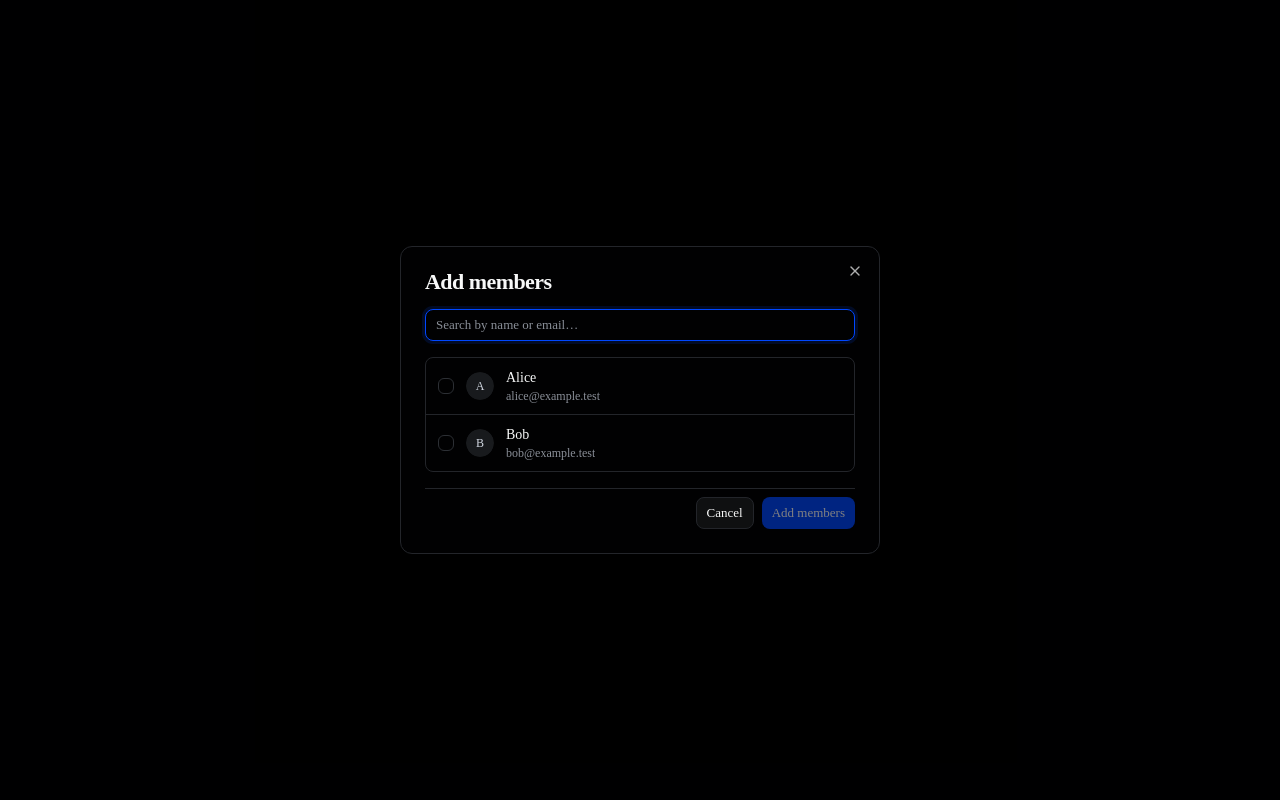
AddGroupMembersDialog › deselecting removes the chip
This screenshot has width=1280, height=800.
Click the text "Alice": (521, 378) [506, 370, 536, 385]
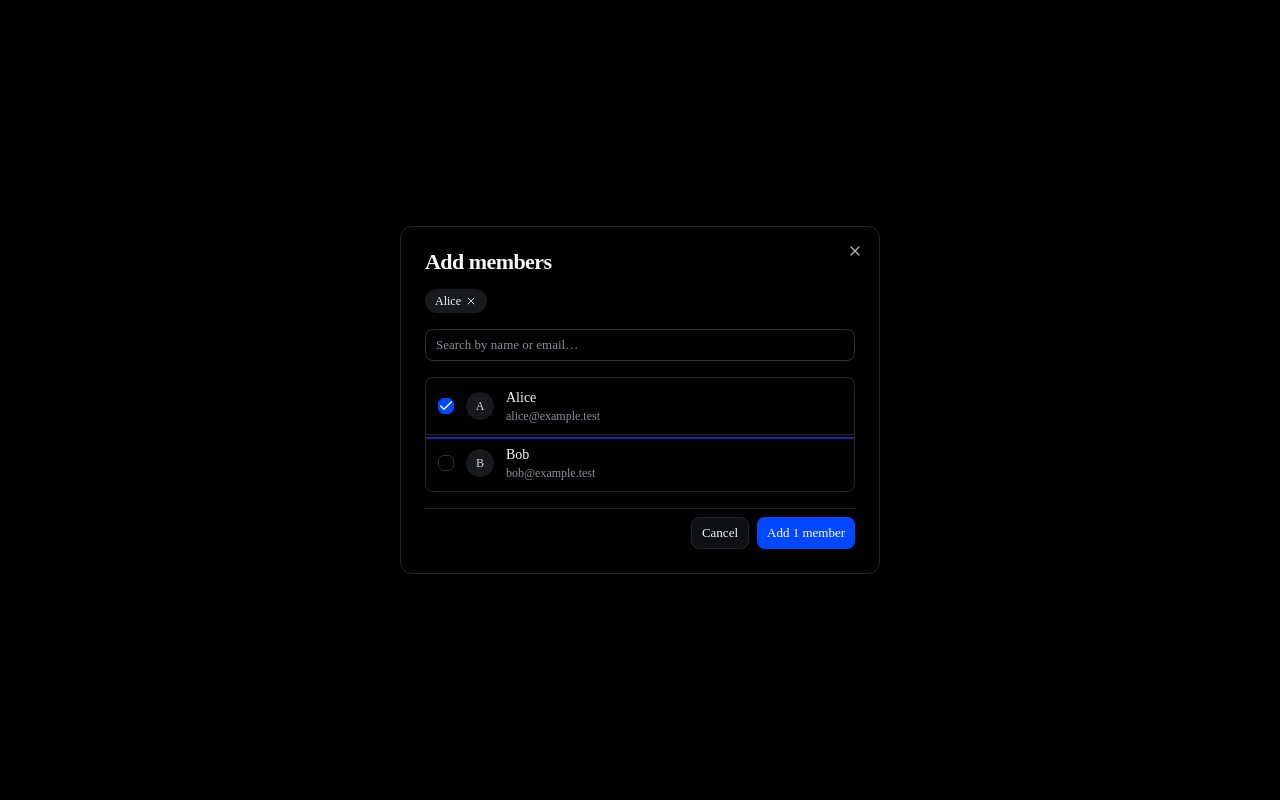
Click the button named "remove alice": (471, 301) [465, 295, 477, 307]
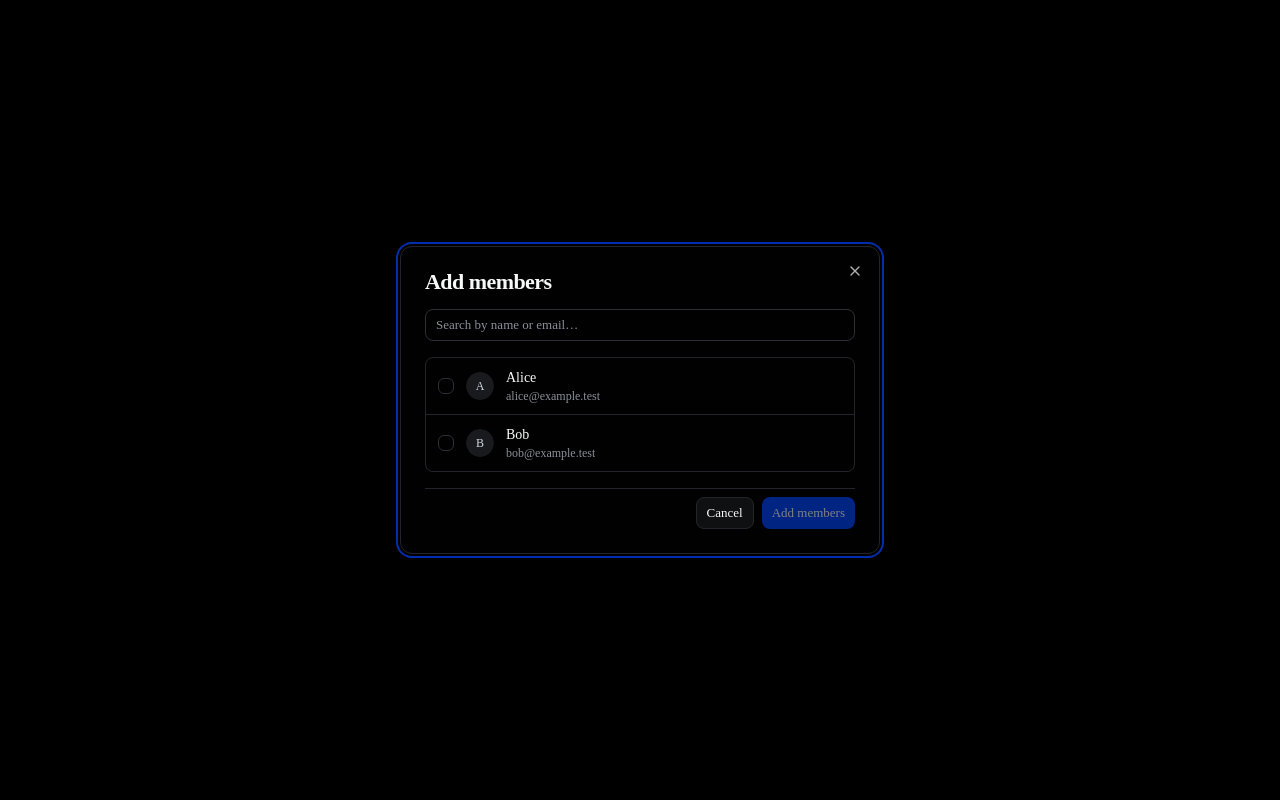
Now the button "Add members" is disabled, box [762, 497, 855, 529]
